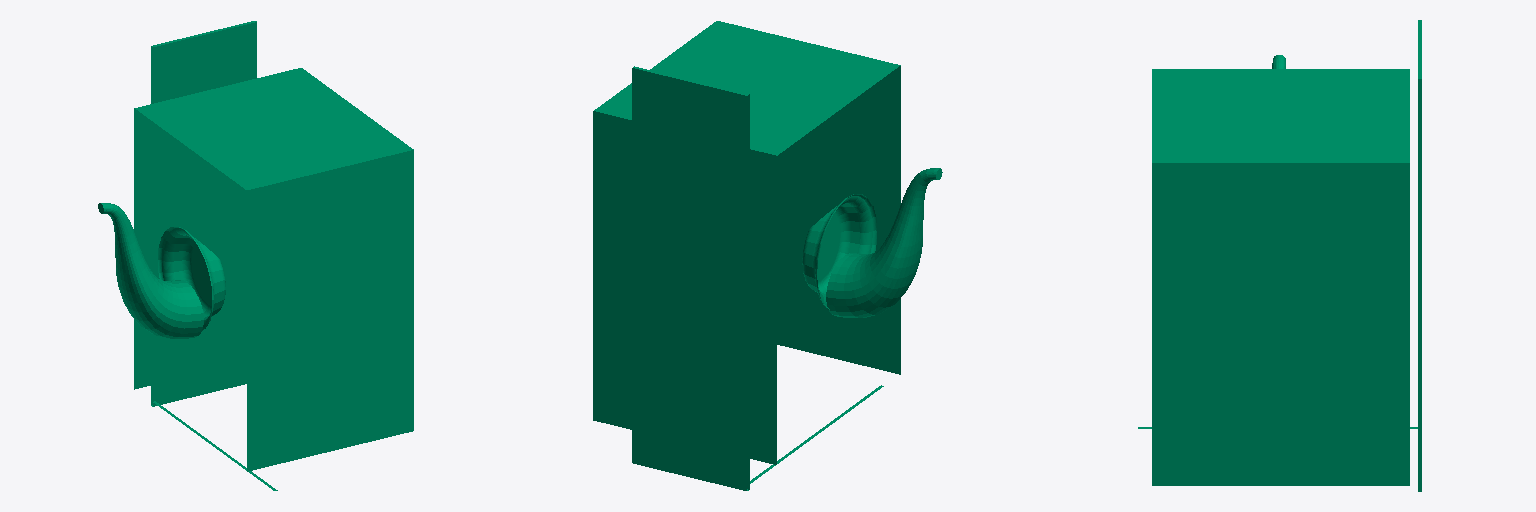
The robot description file, URDF, robot "partnet_1c0c18e5a552ef0ca1d65069344b1b4d":
<?xml version="1.0" ?>
<robot name="partnet_1c0c18e5a552ef0ca1d65069344b1b4d">
	<link name="switch_base"/>
	<link name="switch_handle">
		<visual name="switch-1">
			<origin xyz="-0.2621249506271446 -0.006721590624343354 -0.46791181162118967"/>
			<geometry>
				<mesh filename="textured_objs/original-18.obj"/>
			</geometry>
		</visual>
		<collision>
			<origin xyz="-0.2621249506271446 -0.006721590624343354 -0.46791181162118967"/>
			<geometry>
				<mesh filename="textured_objs/original-18.obj"/>
			</geometry>
		</collision>
	</link>
	<joint name="joint_0" type="revolute">
		<origin xyz="0.2621249506271446 0.006721590624343354 0.46791181162118967"/>
		<axis xyz="1 0 0"/>
		<child link="switch_handle"/>
		<parent link="switch_body"/>
		<limit lower="-0.7539822368615502" upper="0.21362830044410594"/>
	</joint>
	<link name="switch_body">
		<visual name="base_body-2">
			<origin xyz="0 0 0"/>
			<geometry>
				<mesh filename="textured_objs/original-29.obj"/>
			</geometry>
		</visual>
		<visual name="base_body-2">
			<origin xyz="0 0 0"/>
			<geometry>
				<mesh filename="textured_objs/original-28.obj"/>
			</geometry>
		</visual>
		<visual name="base_body-2">
			<origin xyz="0 0 0"/>
			<geometry>
				<mesh filename="textured_objs/original-22.obj"/>
			</geometry>
		</visual>
		<visual name="base_body-2">
			<origin xyz="0 0 0"/>
			<geometry>
				<mesh filename="textured_objs/original-26.obj"/>
			</geometry>
		</visual>
		<visual name="base_body-2">
			<origin xyz="0 0 0"/>
			<geometry>
				<mesh filename="textured_objs/original-4.obj"/>
			</geometry>
		</visual>
		<visual name="base_body-2">
			<origin xyz="0 0 0"/>
			<geometry>
				<mesh filename="textured_objs/original-3.obj"/>
			</geometry>
		</visual>
		<visual name="base_body-2">
			<origin xyz="0 0 0"/>
			<geometry>
				<mesh filename="textured_objs/original-2.obj"/>
			</geometry>
		</visual>
		<visual name="base_body-2">
			<origin xyz="0 0 0"/>
			<geometry>
				<mesh filename="textured_objs/original-16.obj"/>
			</geometry>
		</visual>
		<visual name="base_body-2">
			<origin xyz="0 0 0"/>
			<geometry>
				<mesh filename="textured_objs/original-8.obj"/>
			</geometry>
		</visual>
		<visual name="base_body-2">
			<origin xyz="0 0 0"/>
			<geometry>
				<mesh filename="textured_objs/original-13.obj"/>
			</geometry>
		</visual>
		<visual name="base_body-2">
			<origin xyz="0 0 0"/>
			<geometry>
				<mesh filename="textured_objs/original-9.obj"/>
			</geometry>
		</visual>
		<visual name="base_body-2">
			<origin xyz="0 0 0"/>
			<geometry>
				<mesh filename="textured_objs/original-5.obj"/>
			</geometry>
		</visual>
		<visual name="base_body-2">
			<origin xyz="0 0 0"/>
			<geometry>
				<mesh filename="textured_objs/original-27.obj"/>
			</geometry>
		</visual>
		<visual name="base_body-2">
			<origin xyz="0 0 0"/>
			<geometry>
				<mesh filename="textured_objs/original-6.obj"/>
			</geometry>
		</visual>
		<visual name="base_body-2">
			<origin xyz="0 0 0"/>
			<geometry>
				<mesh filename="textured_objs/original-15.obj"/>
			</geometry>
		</visual>
		<visual name="base_body-2">
			<origin xyz="0 0 0"/>
			<geometry>
				<mesh filename="textured_objs/original-23.obj"/>
			</geometry>
		</visual>
		<visual name="base_body-2">
			<origin xyz="0 0 0"/>
			<geometry>
				<mesh filename="textured_objs/original-11.obj"/>
			</geometry>
		</visual>
		<visual name="base_body-2">
			<origin xyz="0 0 0"/>
			<geometry>
				<mesh filename="textured_objs/original-25.obj"/>
			</geometry>
		</visual>
		<visual name="base_body-2">
			<origin xyz="0 0 0"/>
			<geometry>
				<mesh filename="textured_objs/original-17.obj"/>
			</geometry>
		</visual>
		<visual name="base_body-2">
			<origin xyz="0 0 0"/>
			<geometry>
				<mesh filename="textured_objs/original-12.obj"/>
			</geometry>
		</visual>
		<visual name="base_body-2">
			<origin xyz="0 0 0"/>
			<geometry>
				<mesh filename="textured_objs/original-7.obj"/>
			</geometry>
		</visual>
		<visual name="base_body-2">
			<origin xyz="0 0 0"/>
			<geometry>
				<mesh filename="textured_objs/original-10.obj"/>
			</geometry>
		</visual>
		<visual name="base_body-2">
			<origin xyz="0 0 0"/>
			<geometry>
				<mesh filename="textured_objs/original-14.obj"/>
			</geometry>
		</visual>
		<visual name="base_body-2">
			<origin xyz="0 0 0"/>
			<geometry>
				<mesh filename="textured_objs/original-19.obj"/>
			</geometry>
		</visual>
		<collision>
			<origin xyz="0 0 0"/>
			<geometry>
				<mesh filename="textured_objs/original-29.obj"/>
			</geometry>
		</collision>
		<collision>
			<origin xyz="0 0 0"/>
			<geometry>
				<mesh filename="textured_objs/original-28.obj"/>
			</geometry>
		</collision>
		<collision>
			<origin xyz="0 0 0"/>
			<geometry>
				<mesh filename="textured_objs/original-22.obj"/>
			</geometry>
		</collision>
		<collision>
			<origin xyz="0 0 0"/>
			<geometry>
				<mesh filename="textured_objs/original-26.obj"/>
			</geometry>
		</collision>
		<collision>
			<origin xyz="0 0 0"/>
			<geometry>
				<mesh filename="textured_objs/original-4.obj"/>
			</geometry>
		</collision>
		<collision>
			<origin xyz="0 0 0"/>
			<geometry>
				<mesh filename="textured_objs/original-3.obj"/>
			</geometry>
		</collision>
		<collision>
			<origin xyz="0 0 0"/>
			<geometry>
				<mesh filename="textured_objs/original-2.obj"/>
			</geometry>
		</collision>
		<collision>
			<origin xyz="0 0 0"/>
			<geometry>
				<mesh filename="textured_objs/original-16.obj"/>
			</geometry>
		</collision>
		<collision>
			<origin xyz="0 0 0"/>
			<geometry>
				<mesh filename="textured_objs/original-8.obj"/>
			</geometry>
		</collision>
		<collision>
			<origin xyz="0 0 0"/>
			<geometry>
				<mesh filename="textured_objs/original-13.obj"/>
			</geometry>
		</collision>
		<collision>
			<origin xyz="0 0 0"/>
			<geometry>
				<mesh filename="textured_objs/original-9.obj"/>
			</geometry>
		</collision>
		<collision>
			<origin xyz="0 0 0"/>
			<geometry>
				<mesh filename="textured_objs/original-5.obj"/>
			</geometry>
		</collision>
		<collision>
			<origin xyz="0 0 0"/>
			<geometry>
				<mesh filename="textured_objs/original-27.obj"/>
			</geometry>
		</collision>
		<collision>
			<origin xyz="0 0 0"/>
			<geometry>
				<mesh filename="textured_objs/original-6.obj"/>
			</geometry>
		</collision>
		<collision>
			<origin xyz="0 0 0"/>
			<geometry>
				<mesh filename="textured_objs/original-15.obj"/>
			</geometry>
		</collision>
		<collision>
			<origin xyz="0 0 0"/>
			<geometry>
				<mesh filename="textured_objs/original-23.obj"/>
			</geometry>
		</collision>
		<collision>
			<origin xyz="0 0 0"/>
			<geometry>
				<mesh filename="textured_objs/original-11.obj"/>
			</geometry>
		</collision>
		<collision>
			<origin xyz="0 0 0"/>
			<geometry>
				<mesh filename="textured_objs/original-25.obj"/>
			</geometry>
		</collision>
		<collision>
			<origin xyz="0 0 0"/>
			<geometry>
				<mesh filename="textured_objs/original-17.obj"/>
			</geometry>
		</collision>
		<collision>
			<origin xyz="0 0 0"/>
			<geometry>
				<mesh filename="textured_objs/original-12.obj"/>
			</geometry>
		</collision>
		<collision>
			<origin xyz="0 0 0"/>
			<geometry>
				<mesh filename="textured_objs/original-7.obj"/>
			</geometry>
		</collision>
		<collision>
			<origin xyz="0 0 0"/>
			<geometry>
				<mesh filename="textured_objs/original-10.obj"/>
			</geometry>
		</collision>
		<collision>
			<origin xyz="0 0 0"/>
			<geometry>
				<mesh filename="textured_objs/original-14.obj"/>
			</geometry>
		</collision>
		<collision>
			<origin xyz="0 0 0"/>
			<geometry>
				<mesh filename="textured_objs/original-19.obj"/>
			</geometry>
		</collision>
	</link>
	<joint name="joint_1" type="fixed">
		<origin rpy="1.570796326794897 0 -1.570796326794897" xyz="0 0 0"/>
		<child link="switch_body"/>
		<parent link="switch_base"/>
	</joint>
</robot>

--- Facts derived from the render (not from the file) ---
The picture shows the robot from 3 angles, left to right: view 1: azimuth 30°, elevation 25°; view 2: azimuth 150°, elevation 25°; view 3: azimuth 270°, elevation 25°; orthographic projection.
Model partnet_1c0c18e5a552ef0ca1d65069344b1b4d with 3 links and 2 joints (1 revolute, 1 fixed), rooted at switch_base, posed all joints at 0.
Visible links, largest first — view 1: switch_body; view 2: switch_body; view 3: switch_body.
Boxes of the visible links, x1,y1,x2,y2 form: switch_body: (98,21,413,490); switch_body: (593,21,942,490); switch_body: (1138,20,1421,491).
Size in the robot's own frame: 1.26 by 1.05 by 1.68 metres.
Meshes: 25 distinct files referenced, 8 mesh visuals loaded (8 OBJ); not drawn: 17 (reference not matched to a file when rendering).